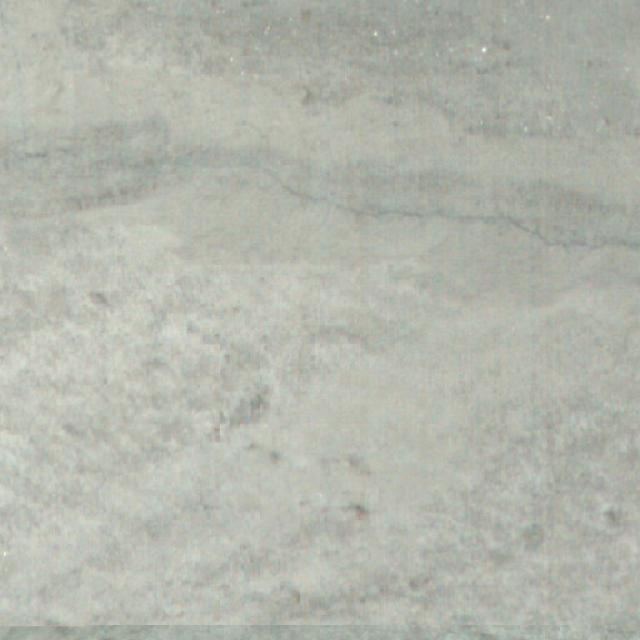Transverse: (0, 99, 640, 304)
